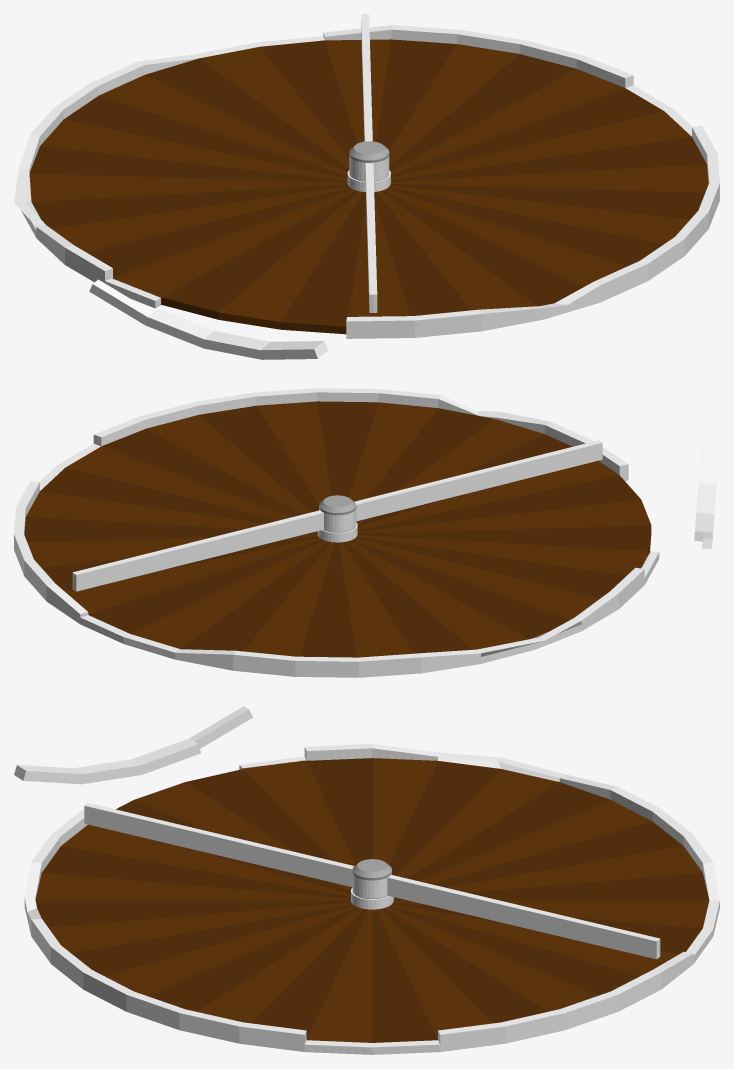
File: farm 2nd damage.fbx
3 views of the same model, one above another, from view 1: azimuth 30°, elevation 25°; view 2: azimuth 150°, elevation 25°; view 3: azimuth 270°, elevation 25° (orthographic). The views are drawn at different scales.
Visible parts, largest first — view 1: Circle, Circle.002, Circle.001; view 2: Circle, Circle.001, Circle.002; view 3: Circle, Circle.001, Circle.002.
Part boxes in pixels (<box>): Circle: <box>14,25,719,338</box>; Circle.002: <box>89,279,328,359</box>; Circle.001: <box>349,14,389,312</box>; Circle: <box>14,388,659,677</box>; Circle.001: <box>72,440,602,591</box>; Circle.002: <box>694,443,719,549</box>; Circle: <box>24,744,719,1054</box>; Circle.001: <box>84,803,660,959</box>; Circle.002: <box>14,706,252,784</box>.
Bounding box in the file's own units: 1748 × 111 × 1670.
